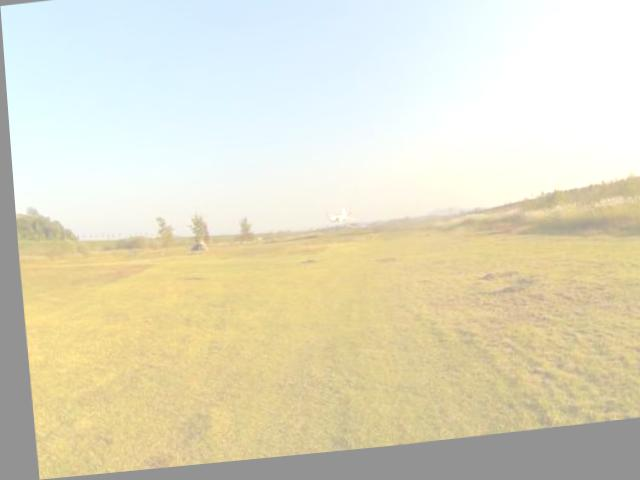uav: (312, 202, 363, 242)
